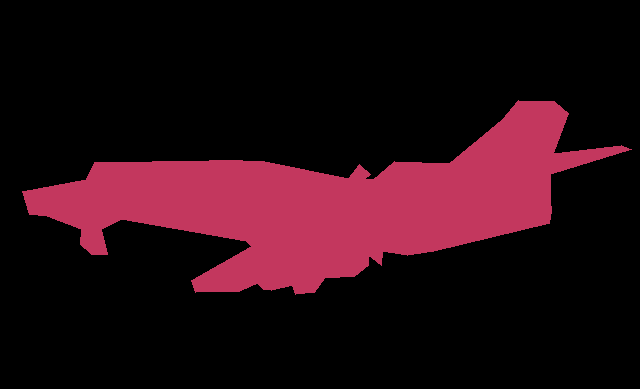Airplane: (22, 100, 631, 295)
